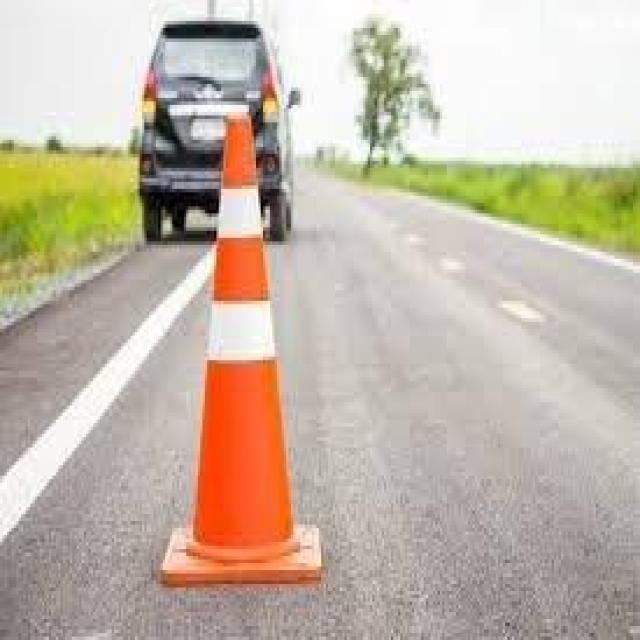cone: (154, 112, 324, 584)
